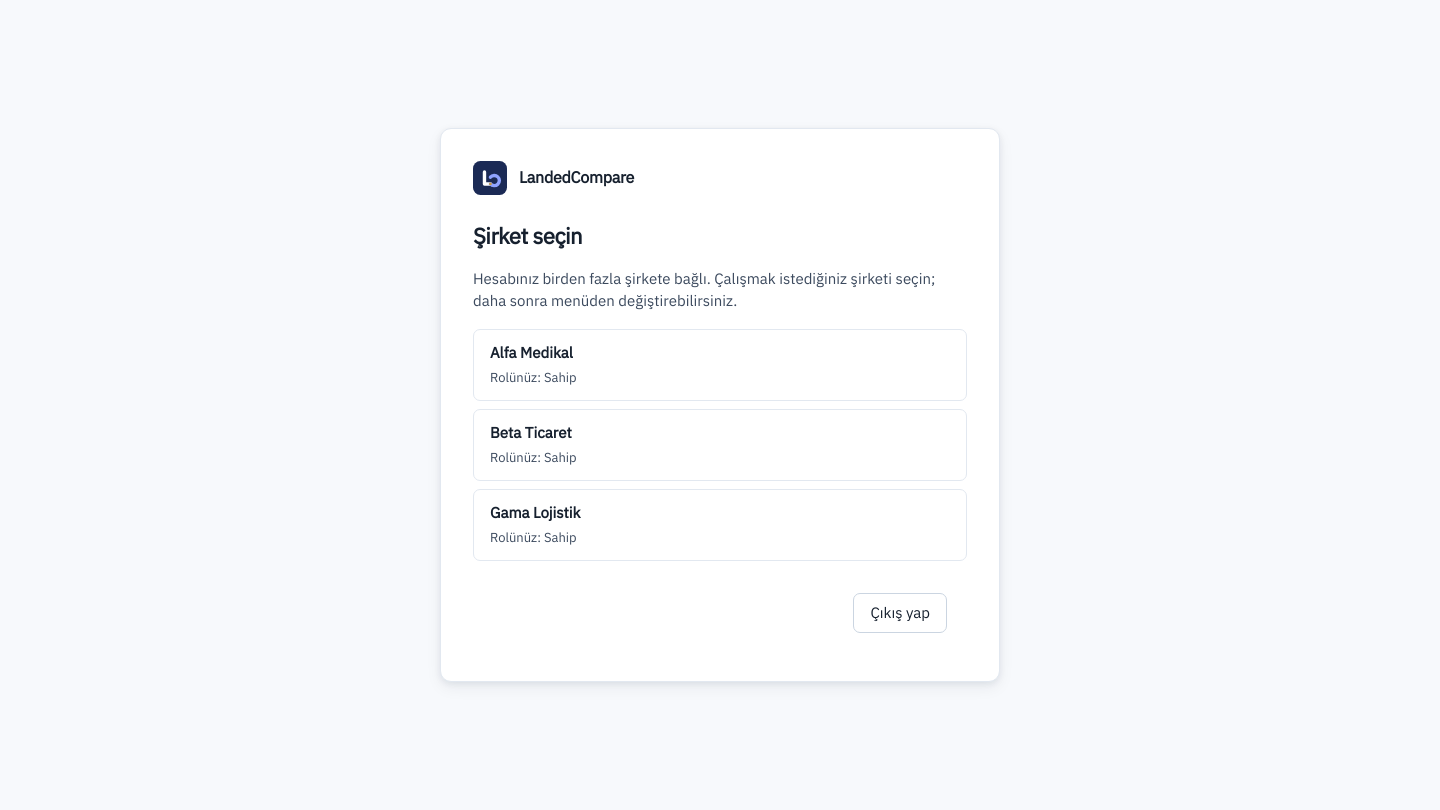
Test: the selected membership is withdrawn on the server › while in use, with two other companies left: back to the selector, B not offered
Click the button "Beta Ticaret Rolünüz: Sahip". click: coordinates (531, 432)
box: [473,409,967,481]
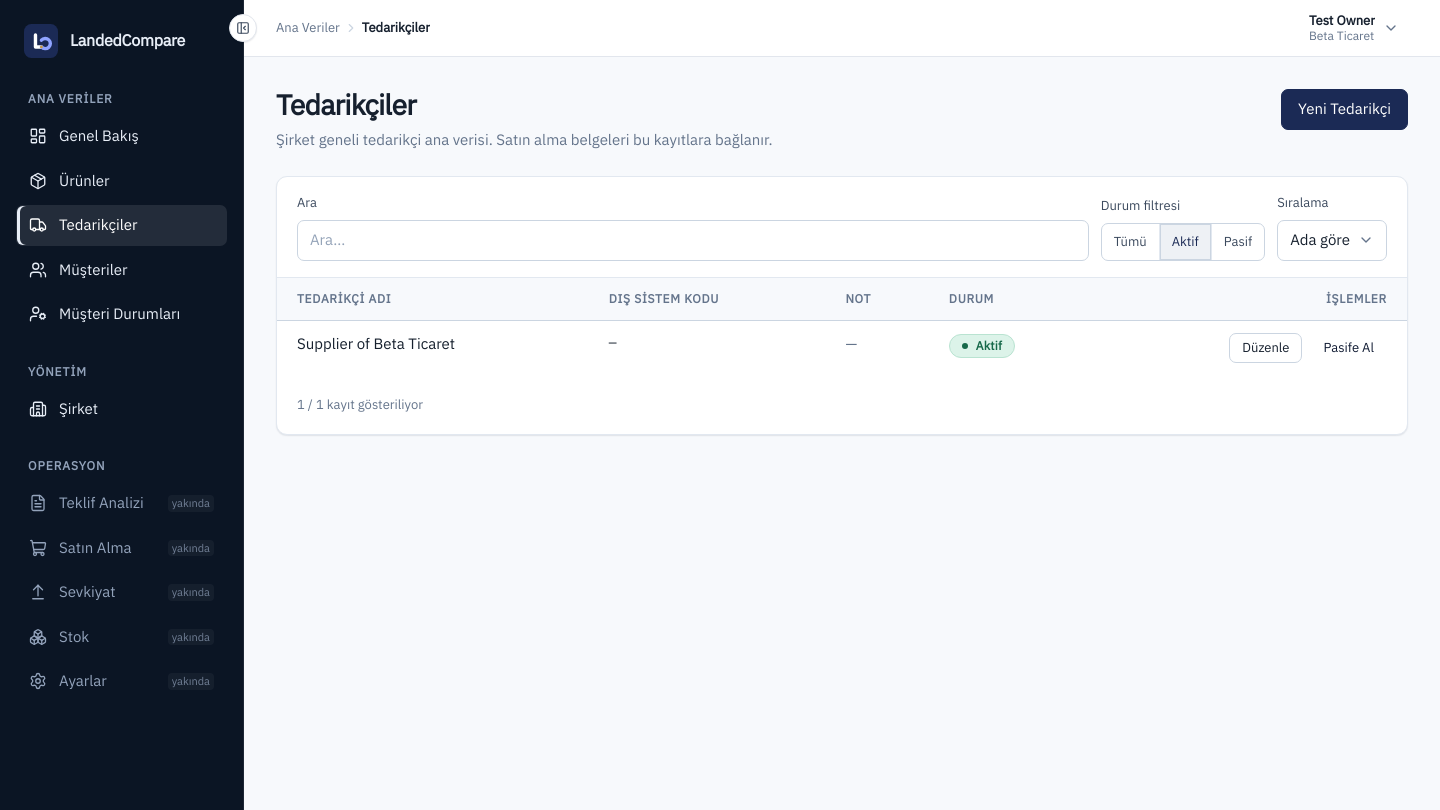
Now the text with test id "shell-organization" reads "Beta Ticaret", box [1309,28,1374,43]
Now the text "Supplier of Beta Ticaret" is shown, box [297,334,455,353]
Click the link "Müşteriler". click: coordinates (78, 269)
box: [29,260,128,279]
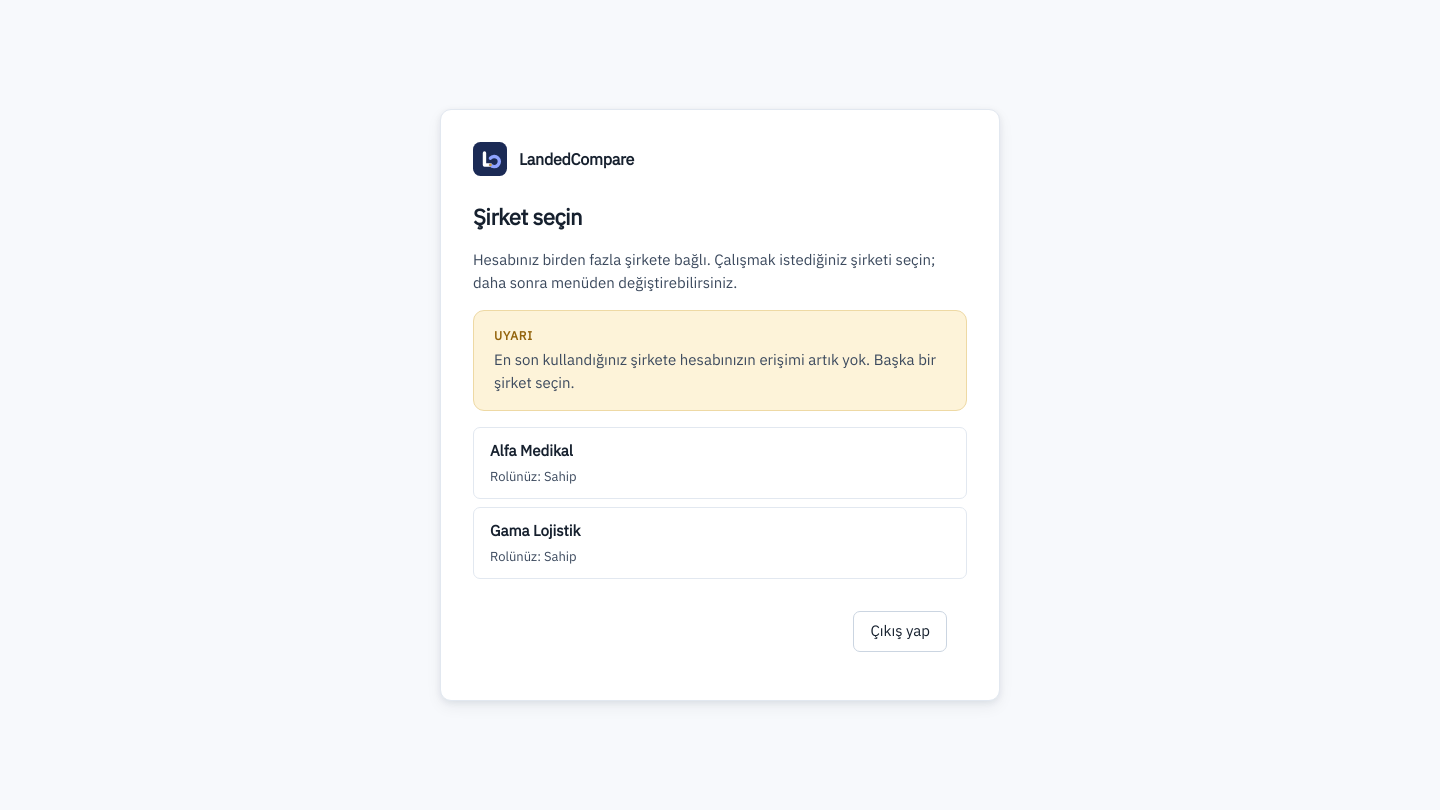
Now the heading "Şirket seçin" is shown, box [473,202,582,231]
Now the text "En son kullandığınız şirkete" is shown, box [494,350,936,392]
